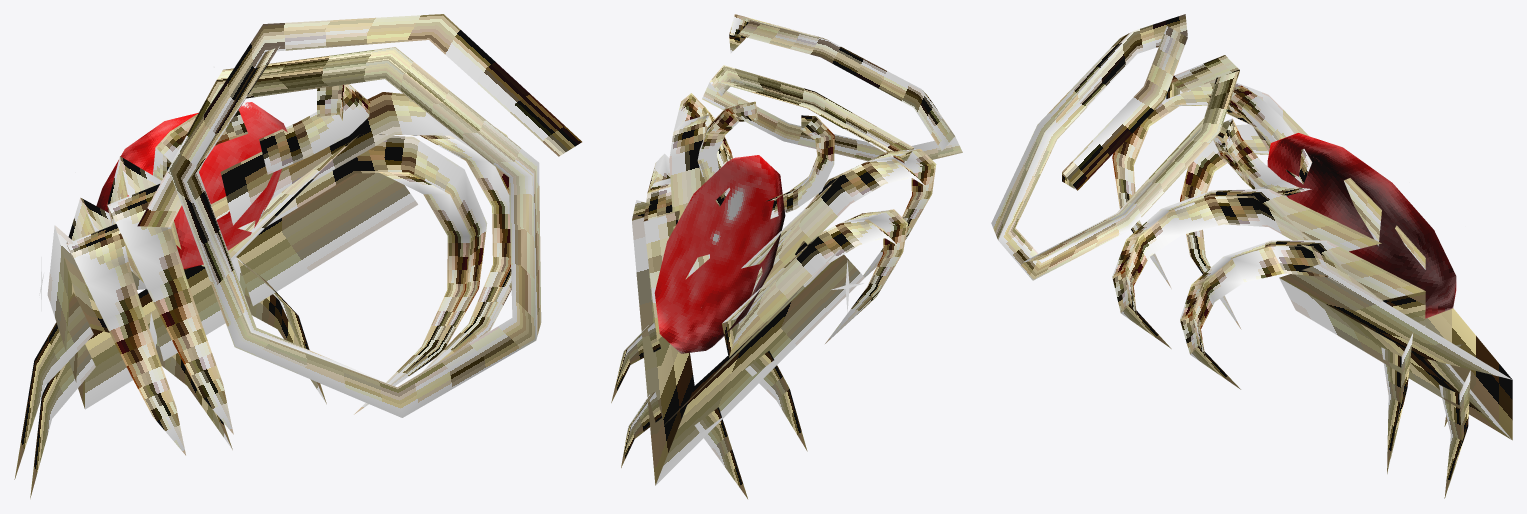
File: ps2_save-icons_busin0wizardryalternativeneo.glb
The picture shows the model from 3 angles, left to right: view 1: azimuth 30°, elevation 25°; view 2: azimuth 150°, elevation 25°; view 3: azimuth 270°, elevation 25°; orthographic projection. The views are drawn at different scales.
Parts seen in each view (by area): view 1: icon1.ico; view 2: icon1.ico; view 3: icon1.ico.
Boxes of the visible parts, bbox=[...] form: icon1.ico: bbox=[14, 14, 581, 498]; icon1.ico: bbox=[611, 14, 962, 498]; icon1.ico: bbox=[991, 14, 1512, 498].
Bounding box in the file's own units: 2.71 × 4.03 × 4.4.
1 material, 1 textured.
